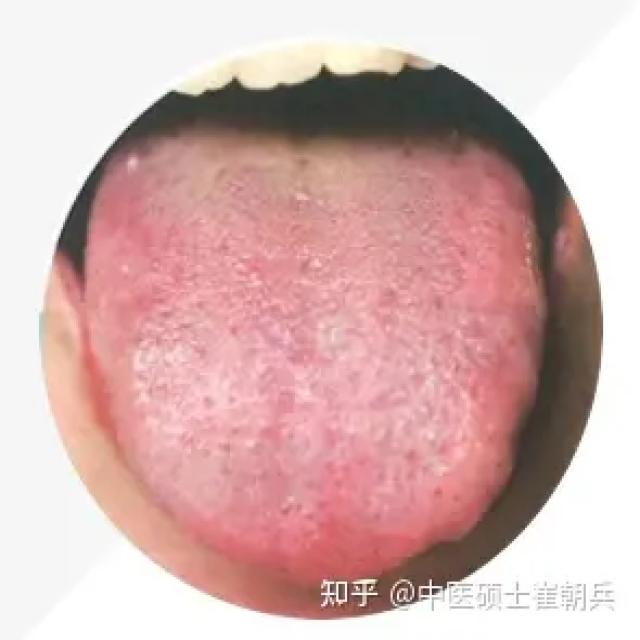tongue: (91, 140, 543, 560)
